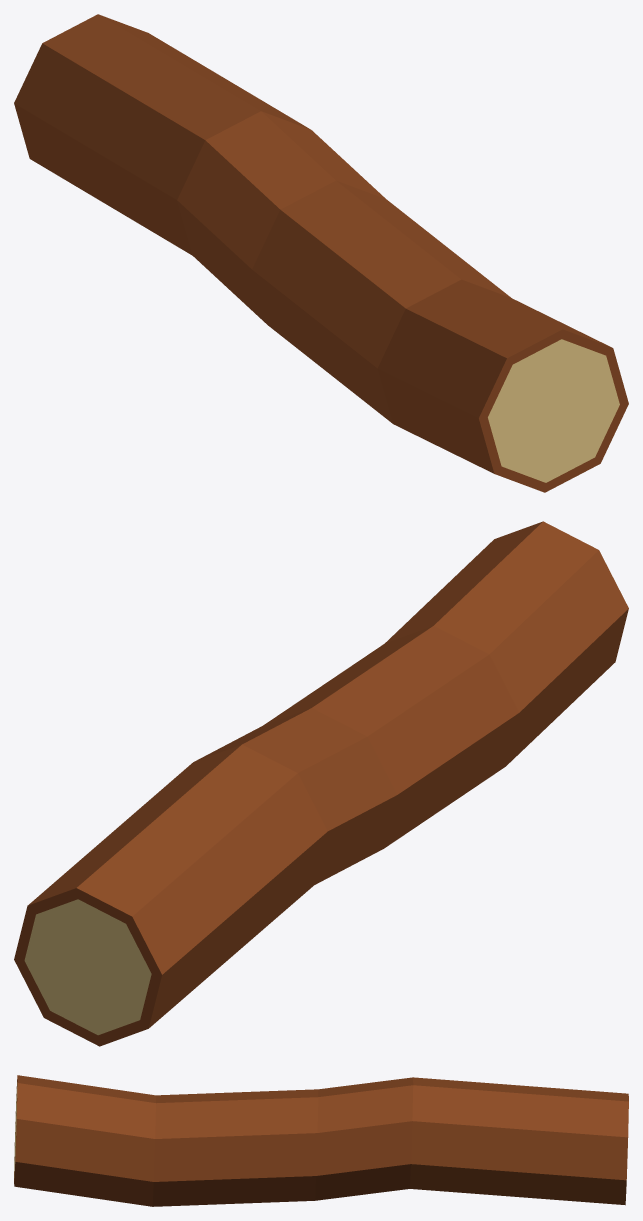
The model's file is Log2.fbx.
The picture shows the model from 3 angles, top to bottom: view 1: azimuth 30°, elevation 25°; view 2: azimuth 150°, elevation 25°; view 3: azimuth 270°, elevation 25°; orthographic projection. The views are drawn at different scales.
Parts seen in each view (by area): view 1: Log_2; view 2: Log_2; view 3: Log_2.
Boxes of the visible parts, x1,y1,x2,y2 form: Log_2: (14, 14, 628, 492); Log_2: (14, 521, 628, 1046); Log_2: (14, 1075, 628, 1206).
Size of the model in its own units: 204 by 234 by 1078.
